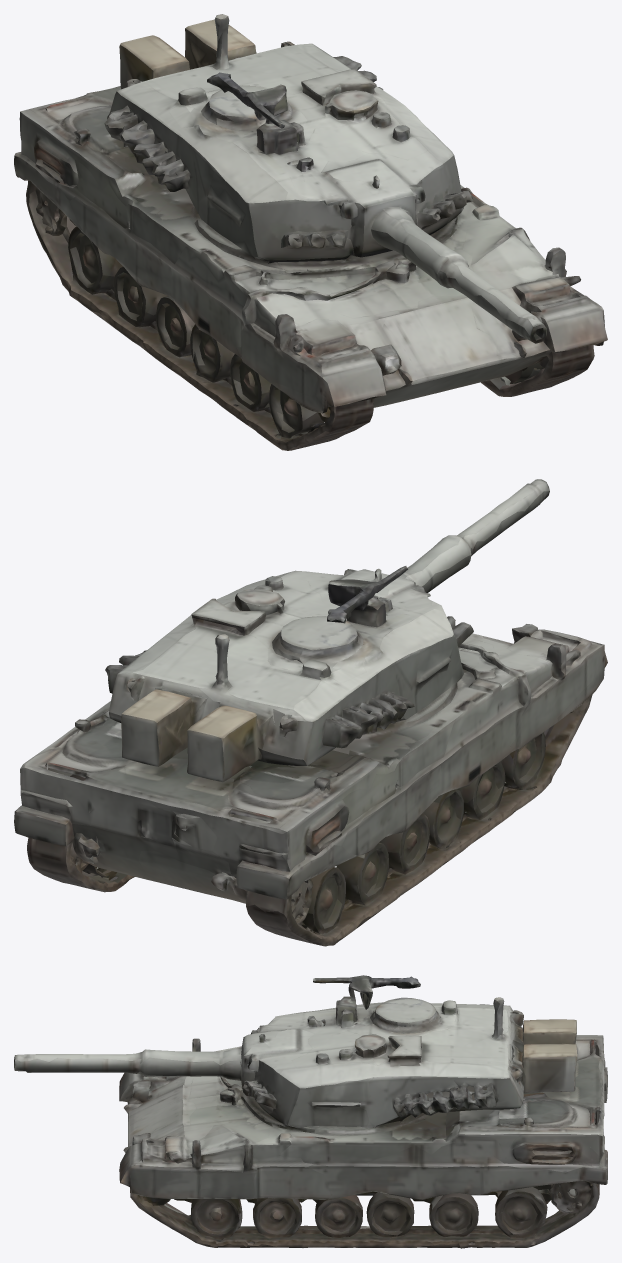
Rendered from land_main_v3_parts.glb.
The picture shows the model from 3 angles, top to bottom: view 1: azimuth 30°, elevation 25°; view 2: azimuth 150°, elevation 25°; view 3: azimuth 270°, elevation 25°; orthographic projection. The views are drawn at different scales.
Bounding box in the file's own units: 9.8 × 8.59 × 22.82.
6 materials, 6 textured.
